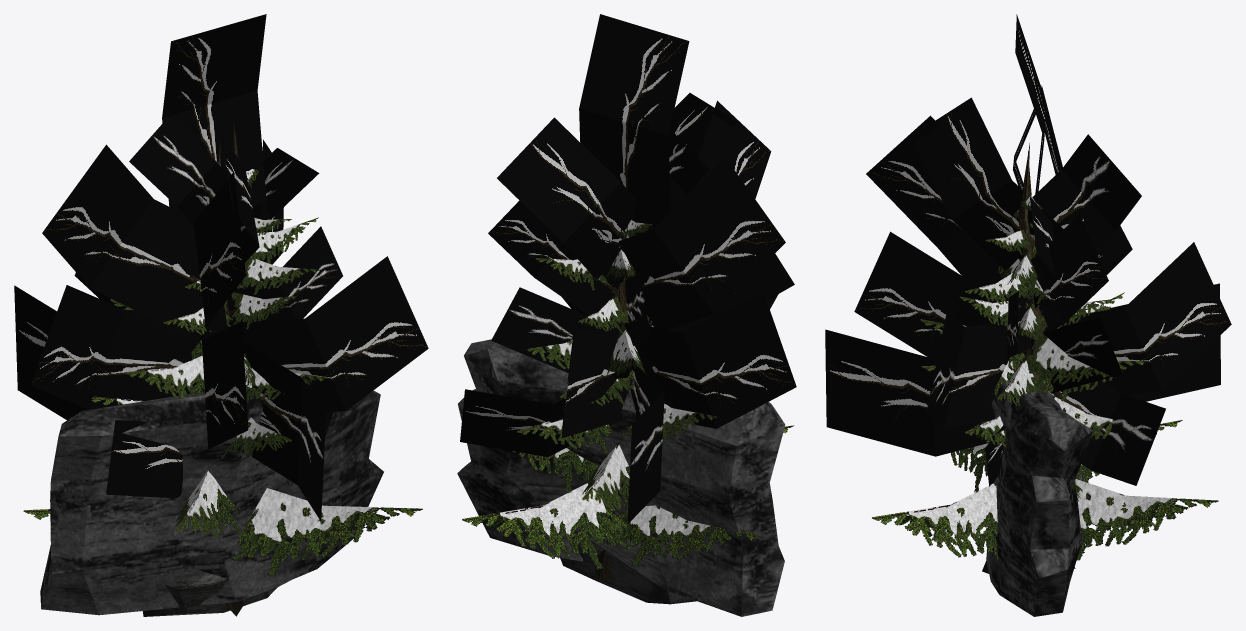
File: PSX_Snow_Nature_AssetsCollection.fbx
The picture shows the model from 3 angles, left to right: view 1: azimuth 30°, elevation 25°; view 2: azimuth 150°, elevation 25°; view 3: azimuth 270°, elevation 25°; orthographic projection. The views are drawn at different scales.
Parts seen in each view (by area): view 1: Snowy_Tree, Rocky_Wall, Snowy_Pinetree, Rock; view 2: Snowy_Tree, Rocky_Wall, Snowy_Pinetree, Rock; view 3: Snowy_Tree, Snowy_Pinetree, Rocky_Wall.
Part boxes in pixels (x1,y1,x2,y2): Snowy_Tree: [14, 14, 428, 616]; Rocky_Wall: [40, 390, 383, 615]; Snowy_Pinetree: [23, 122, 422, 575]; Rock: [142, 569, 277, 616]; Snowy_Tree: [460, 14, 796, 524]; Rocky_Wall: [457, 339, 785, 616]; Snowy_Pinetree: [462, 220, 793, 581]; Rock: [560, 522, 696, 604]; Snowy_Tree: [825, 14, 1231, 573]; Snowy_Pinetree: [872, 143, 1218, 568]; Rocky_Wall: [986, 382, 1093, 616].
Size of the model in its own units: 467 by 743 by 500.
Materials: 7 (7 with a texture image).
